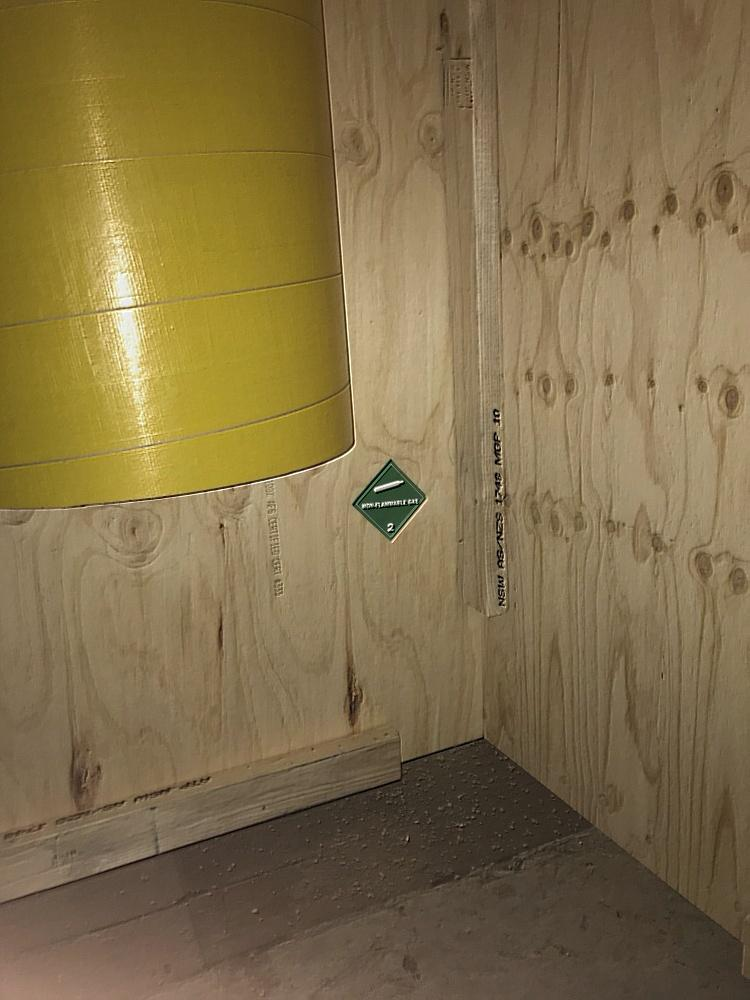non-flammable-gas: (352, 460, 427, 546)
